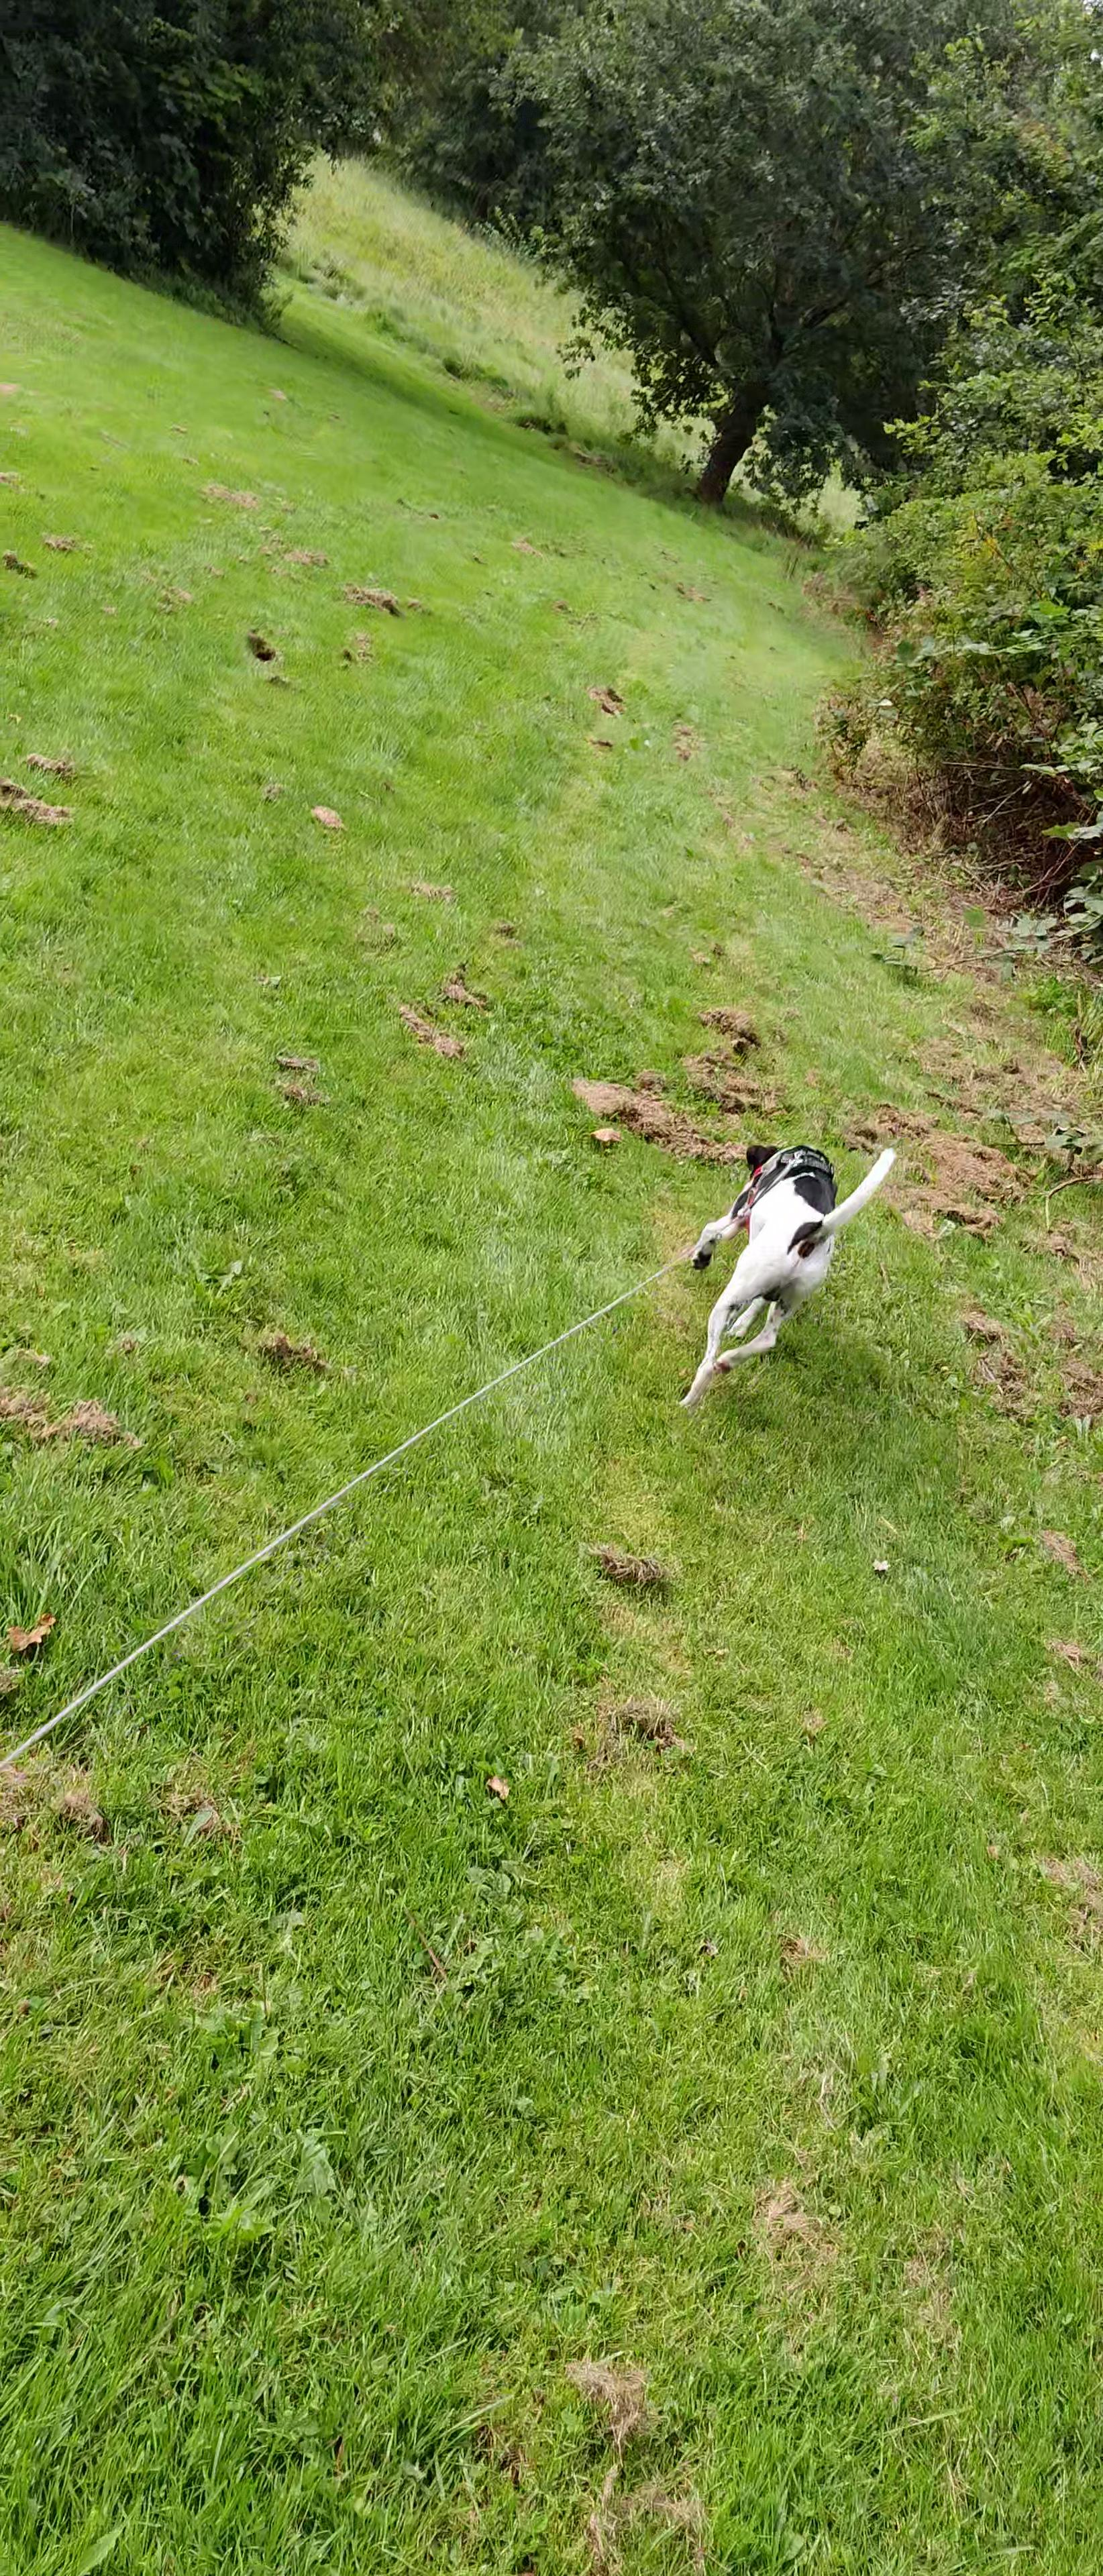Dog: (667, 1129, 899, 1426)
